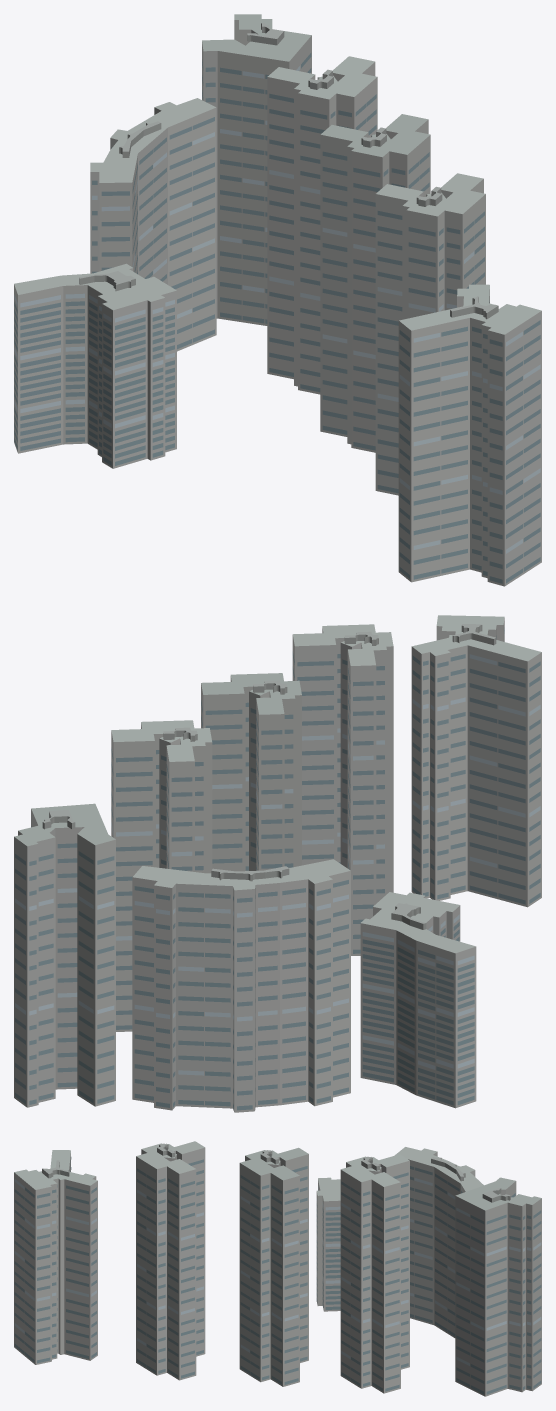
The model's file is apt-a10026207.glb.
3 views of the same model, one above another, from view 1: azimuth 30°, elevation 25°; view 2: azimuth 150°, elevation 25°; view 3: azimuth 270°, elevation 25° (orthographic). The views are drawn at different scales.
Parts seen in each view (by area): view 1: apt-a10026207; view 2: apt-a10026207; view 3: apt-a10026207.
Boxes of the visible parts, bbox=[...] form: apt-a10026207: bbox=[14, 14, 541, 586]; apt-a10026207: bbox=[14, 615, 541, 1112]; apt-a10026207: bbox=[14, 1141, 541, 1396].
Size of the model in its own units: 147 by 114 by 259.
